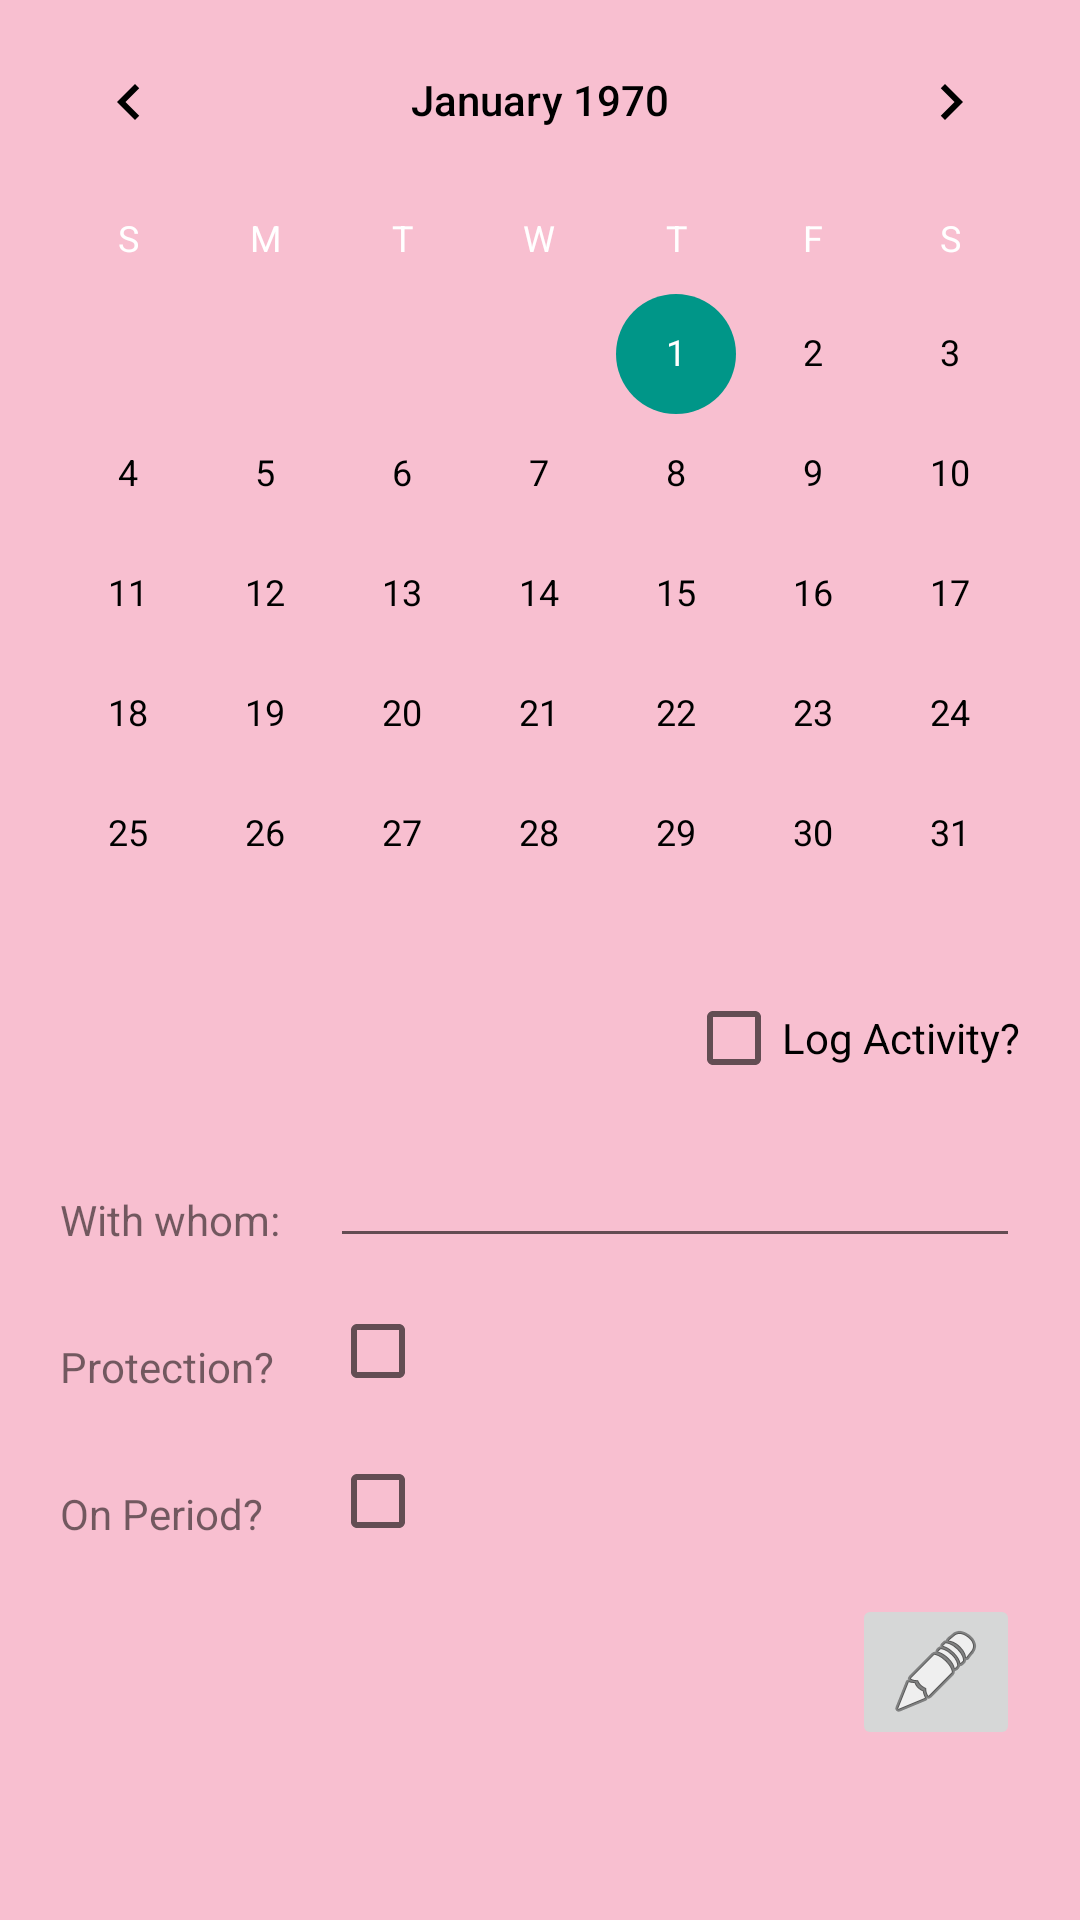

Where icons sit on this 1080 × 1920 app screen, as {"left": x1, "top": y1, "right": x2, "bottom": y2}:
Save and Edit Button: {"left": 864, "top": 1612, "right": 1008, "bottom": 1732}
